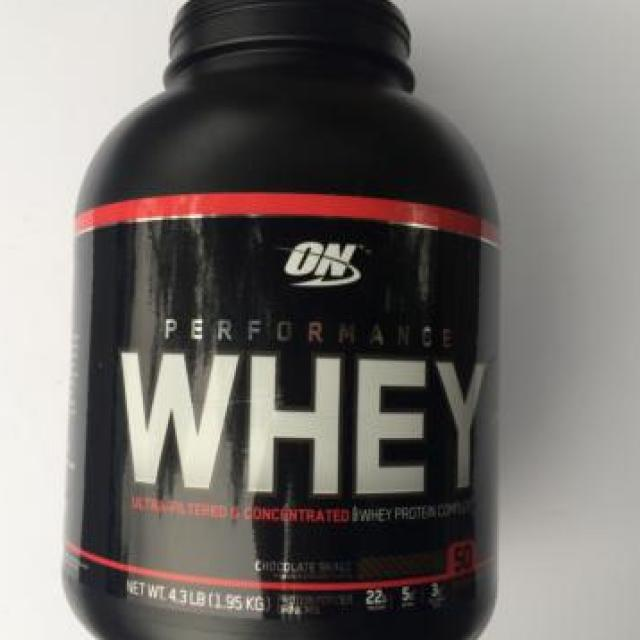organic: (62, 2, 548, 629)
